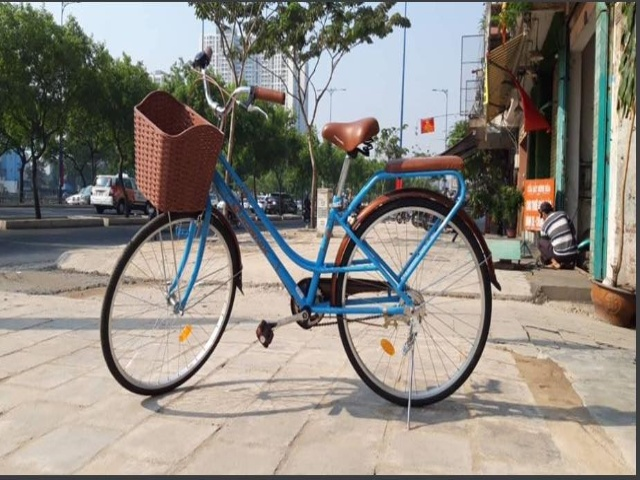Xe_dap: (97, 45, 507, 433)
